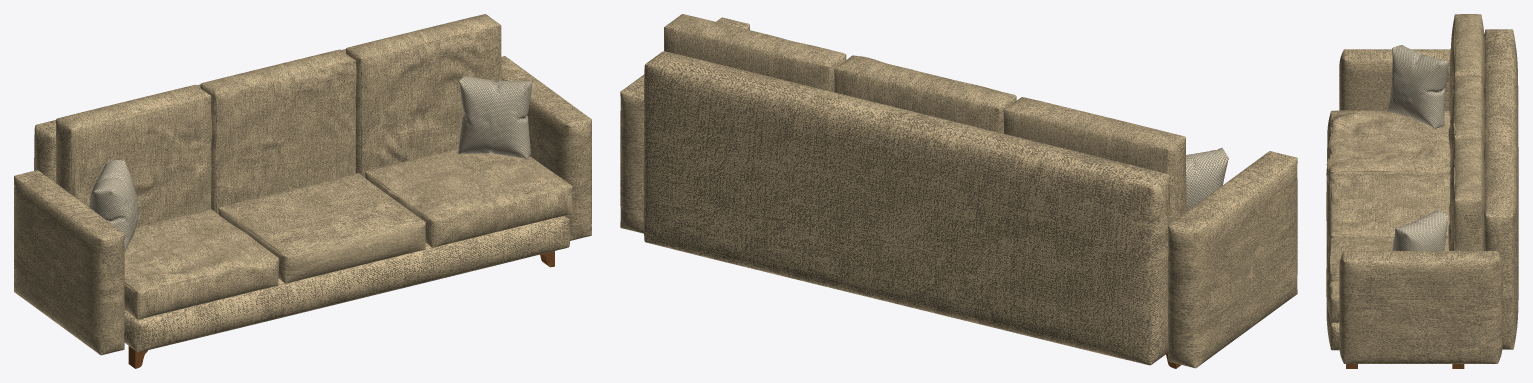
File: sofa-sca-1.glb
3 views of the same model, side by side, from view 1: azimuth 30°, elevation 25°; view 2: azimuth 150°, elevation 25°; view 3: azimuth 270°, elevation 25° (orthographic). The views are drawn at different scales.
Parts seen in each view (by area): view 1: Haven_uniform_prototype_width; view 2: Haven_uniform_prototype_width; view 3: Haven_uniform_prototype_width.
Boxes of the visible parts, x1,y1,x2,y2 form: Haven_uniform_prototype_width: [14, 14, 591, 368]; Haven_uniform_prototype_width: [620, 14, 1297, 368]; Haven_uniform_prototype_width: [1326, 14, 1518, 368].
Bounding box in the file's own units: 2.1 × 0.8005 × 0.7906.
3 materials, 3 textured.
